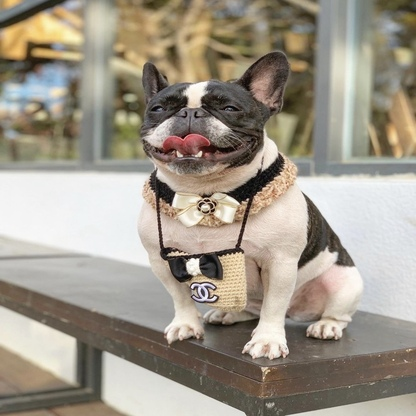bulldog: (133, 49, 368, 362)
